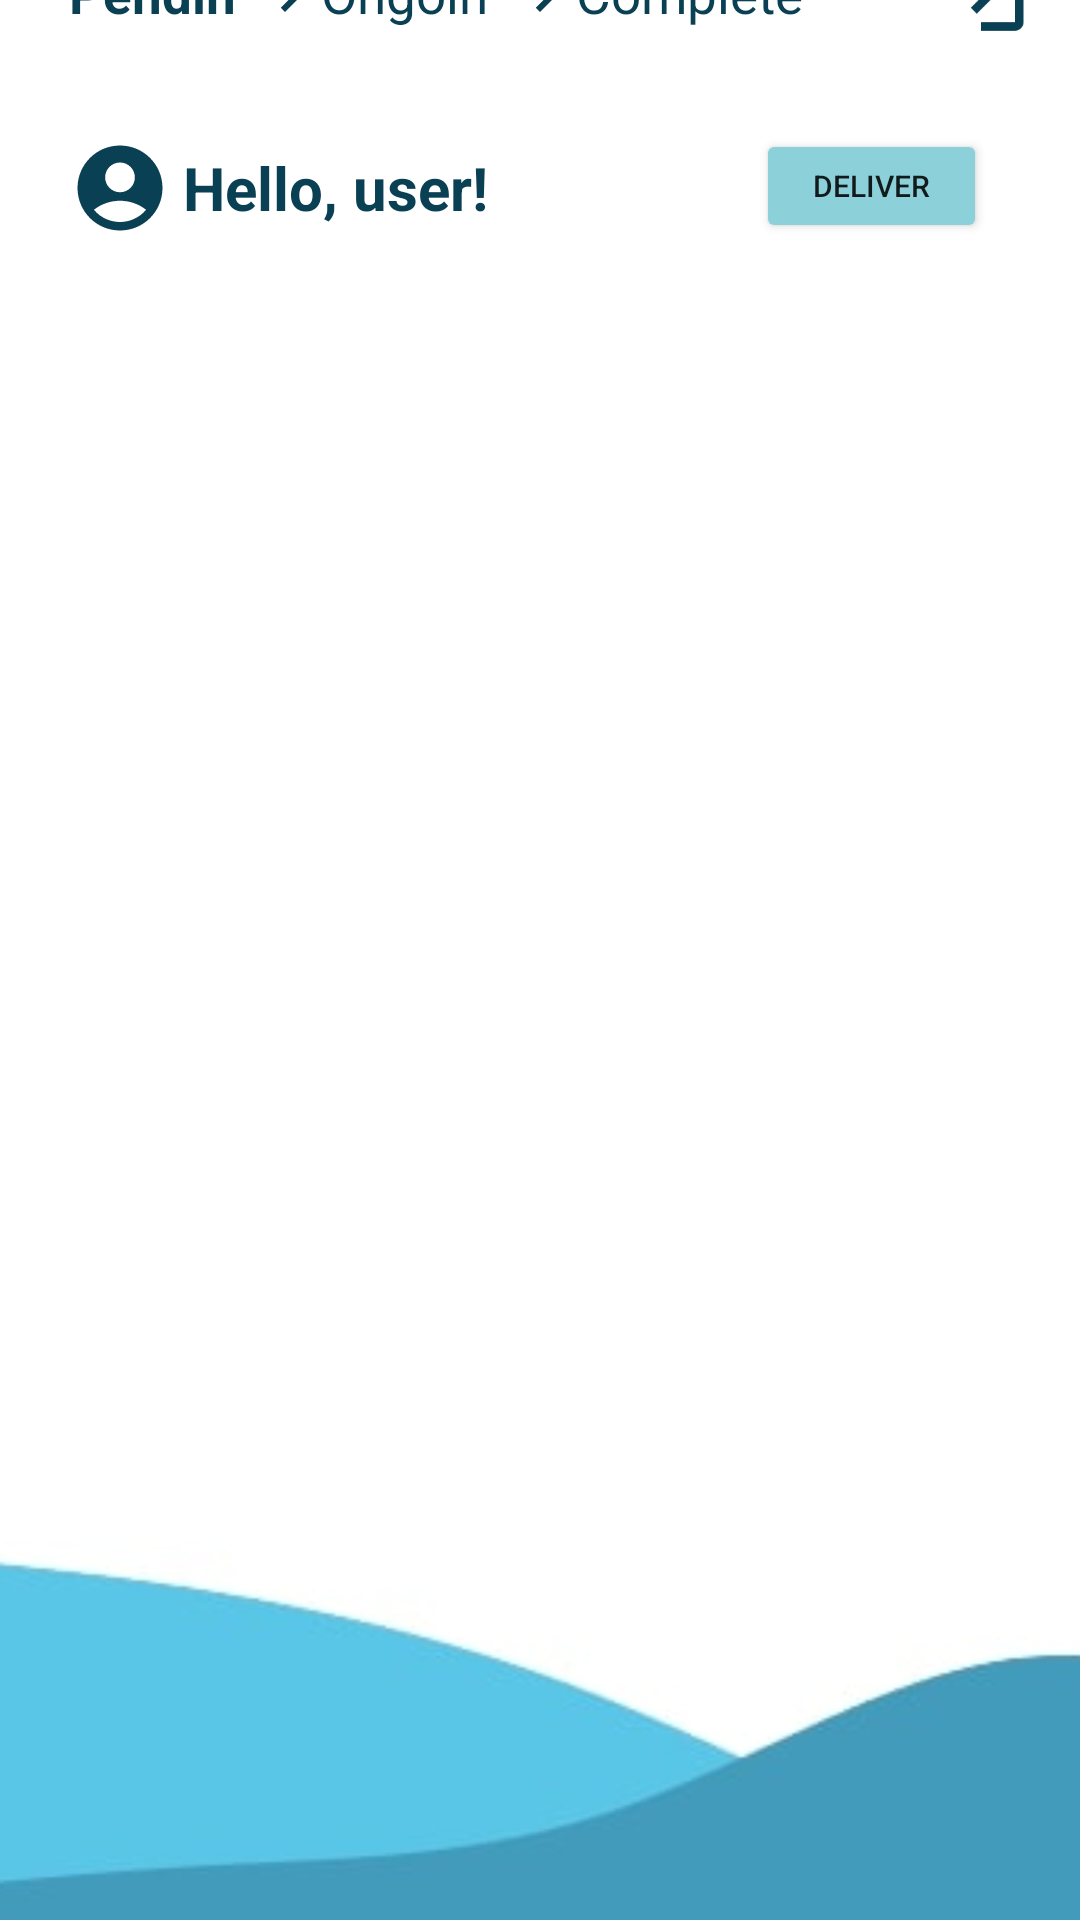

Where icons sit on this 1080×1920 app screen, as (x1,y1,x2,y2):
account circle: (77,145,163,231)
